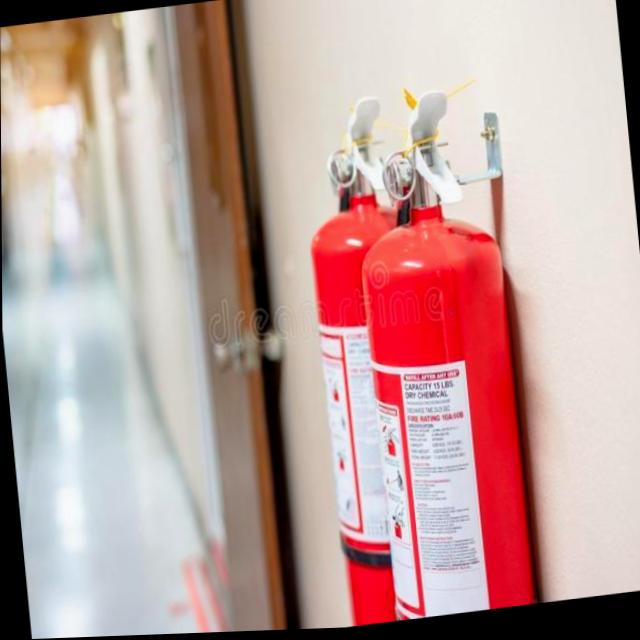FireExtinguisher: (338, 78, 545, 625), (289, 89, 452, 631)
